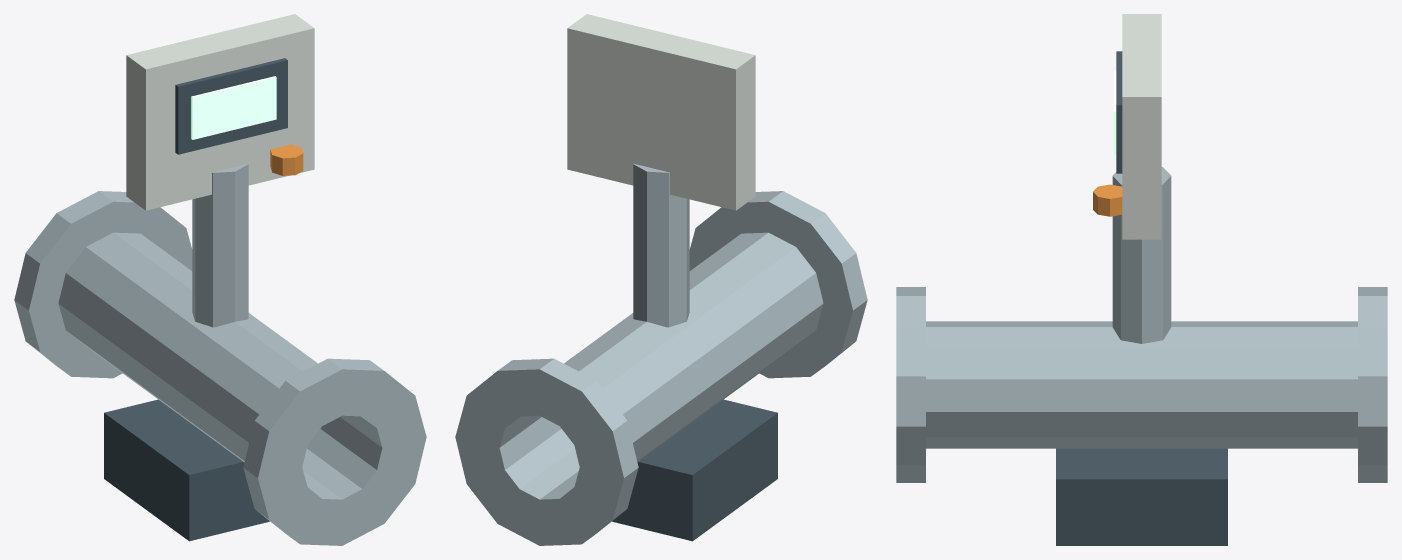
The model's file is flow-meter.glb.
The picture shows the model from 3 angles, left to right: view 1: azimuth 30°, elevation 25°; view 2: azimuth 150°, elevation 25°; view 3: azimuth 270°, elevation 25°; orthographic projection.
Visible parts, largest first — view 1: steel, cream, dark, light, orange; view 2: steel, cream, dark; view 3: steel, dark, cream, orange.
Part boxes in pixels (<box>): steel: <box>14,163,426,545</box>; cream: <box>126,14,314,210</box>; dark: <box>104,58,287,541</box>; light: <box>191,76,276,139</box>; orange: <box>270,144,303,175</box>; steel: <box>455,163,867,545</box>; cream: <box>567,14,755,210</box>; dark: <box>612,399,777,541</box>; steel: <box>896,167,1387,482</box>; dark: <box>1056,51,1227,545</box>; cream: <box>1122,14,1161,239</box>; orange: <box>1093,184,1122,216</box>.
Bounding box in the file's own units: 0.4 × 1.02 × 1.
